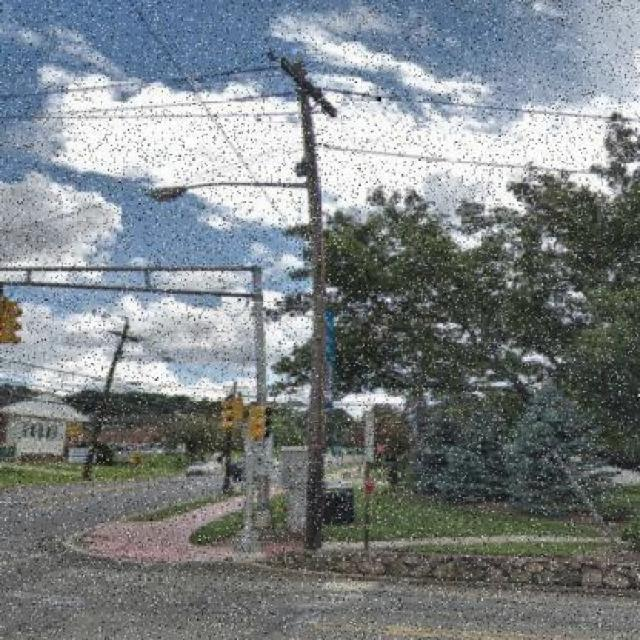crossarm: (271, 42, 338, 120)
pole: (297, 77, 330, 551)
wire: (123, 0, 301, 234), (2, 84, 640, 124), (0, 61, 291, 103), (319, 140, 637, 177)
